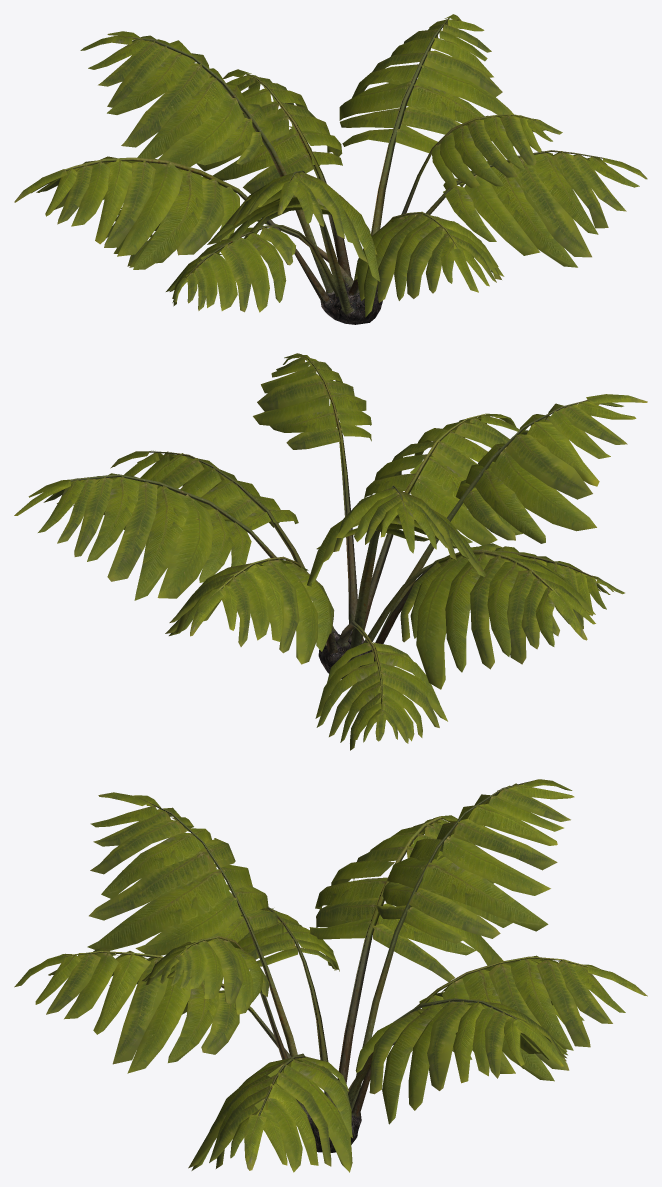
Rendered from sm10_030_tropicalplant05a.fbx.
3 views of the same model, one above another, from view 1: azimuth 30°, elevation 25°; view 2: azimuth 150°, elevation 25°; view 3: azimuth 270°, elevation 25° (orthographic). The views are drawn at different scales.
Parts seen in each view (by area): view 1: LOD_1_Group_0_Sub_1__sm10_030_TropicalPlant05A_A_Mat__Env_Al; view 2: LOD_1_Group_0_Sub_1__sm10_030_TropicalPlant05A_A_Mat__Env_Al; view 3: LOD_1_Group_0_Sub_1__sm10_030_TropicalPlant05A_A_Mat__Env_Al.
Part boxes in pixels (x1,y1,x2,y2): LOD_1_Group_0_Sub_1__sm10_030_TropicalPlant05A_A_Mat__Env_Al: [14, 14, 647, 324]; LOD_1_Group_0_Sub_1__sm10_030_TropicalPlant05A_A_Mat__Env_Al: [14, 353, 647, 750]; LOD_1_Group_0_Sub_1__sm10_030_TropicalPlant05A_A_Mat__Env_Al: [14, 779, 647, 1172].
Size of the model in its own units: 5.27 by 2.36 by 4.74.
